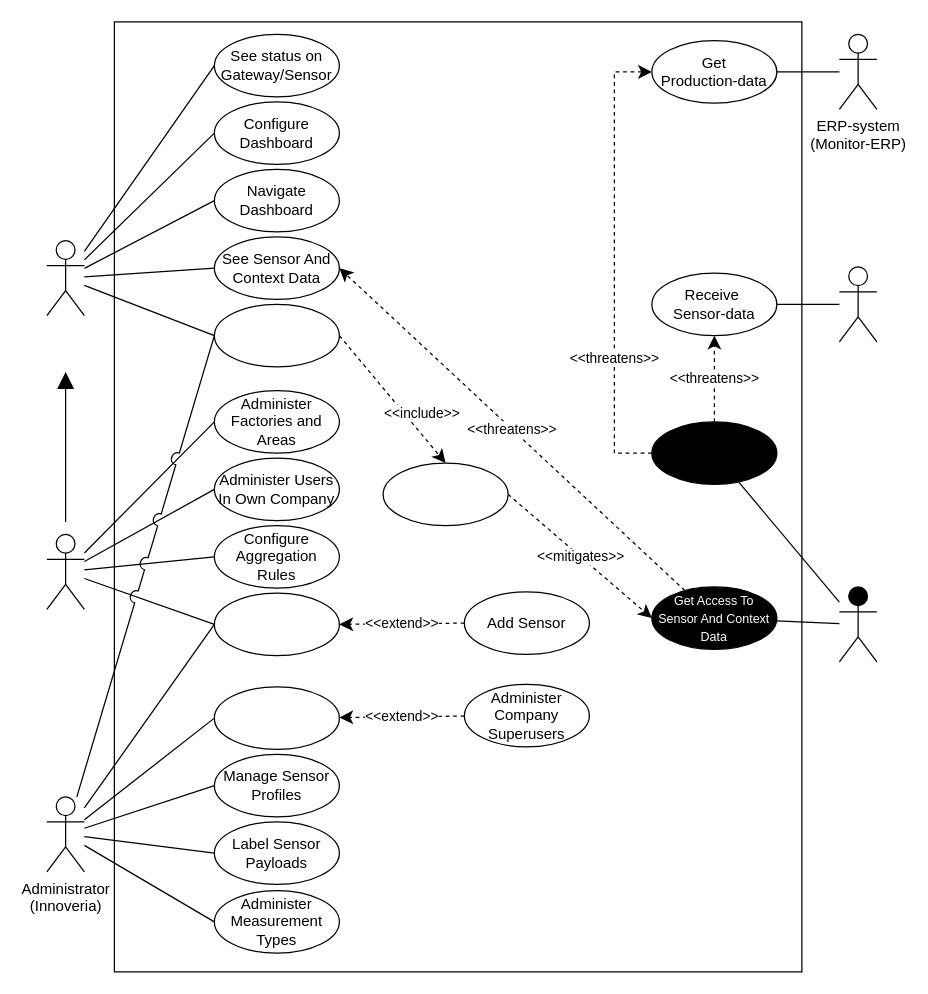
Some shapes in this 928 by 994 pixel diagram are drawn without their labels. Here are the shapes that lost their labels. From the top down, the centre of each, then its label:
the point at 65,277: User (Factory)
the point at 857,304: Gateway (LoRaWan)
the point at 276,335: Log In
the point at 714,452: Overload The System
the point at 445,494: Authenticate User
the point at 65,571: Superuser (Factory)
the point at 276,624: Add Gateway
the point at 857,624: Attacker
the point at 276,717: Administer Companies
